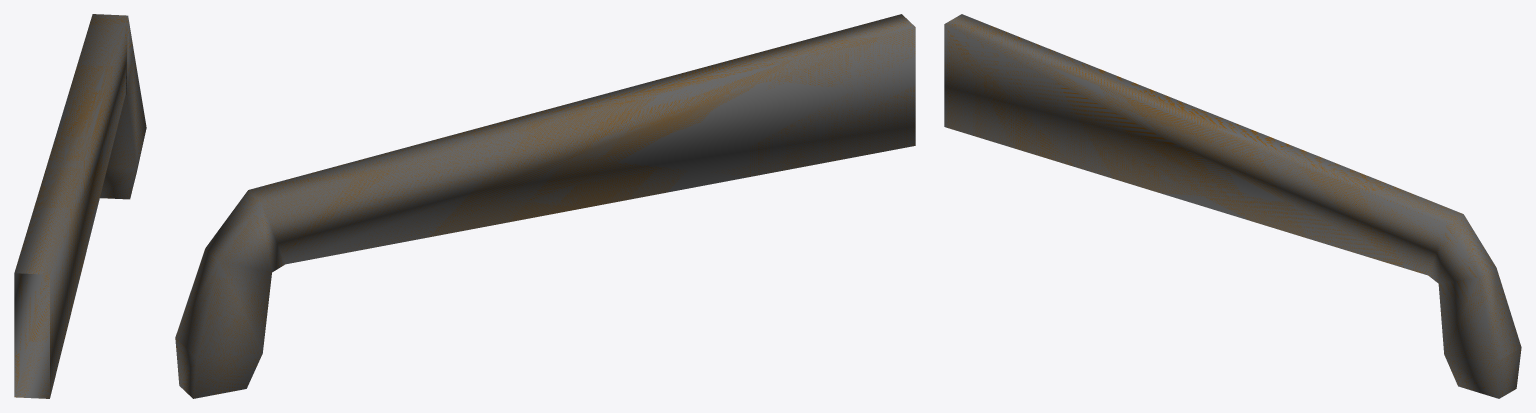
File: original-19.obj
The picture shows the model from 3 angles, left to right: view 1: azimuth 30°, elevation 25°; view 2: azimuth 150°, elevation 25°; view 3: azimuth 270°, elevation 25°; orthographic projection. The views are drawn at different scales.
Parts seen in each view (by area): view 1: mesh4/mesh4-geometry#mesh4-geometry; view 2: mesh4/mesh4-geometry#mesh4-geometry; view 3: mesh4/mesh4-geometry#mesh4-geometry.
Part boxes in pixels (box(x1,y1,x2,y2)): mesh4/mesh4-geometry#mesh4-geometry: box(14, 14, 146, 398); mesh4/mesh4-geometry#mesh4-geometry: box(175, 14, 915, 398); mesh4/mesh4-geometry#mesh4-geometry: box(944, 14, 1521, 398).
Size of the model in its own units: 0.3455 by 0.1796 by 0.4595.
